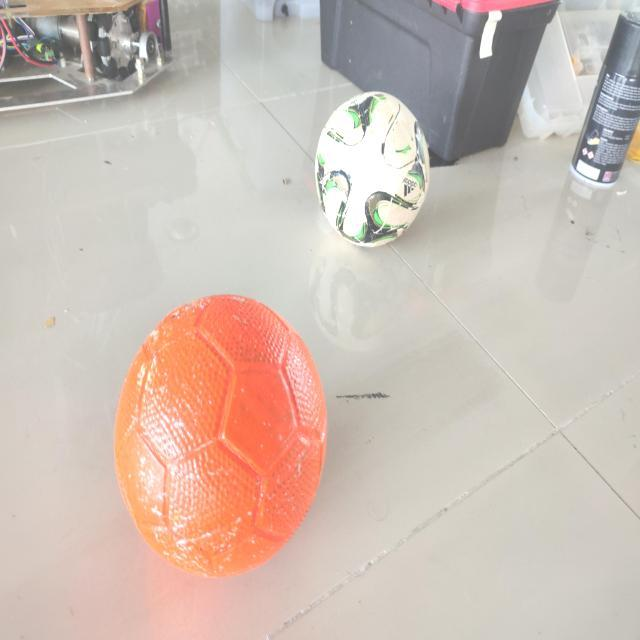bola: (92, 280, 347, 578)
